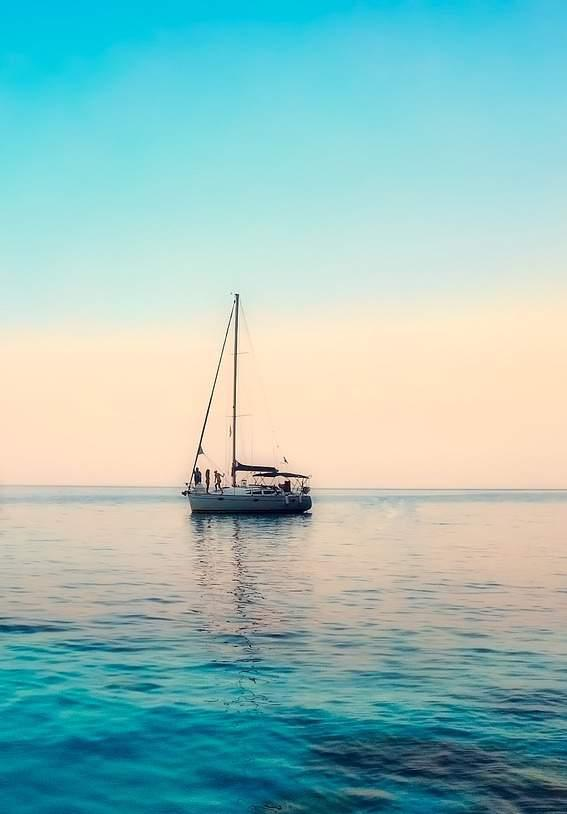Ship: (182, 292, 314, 519)
